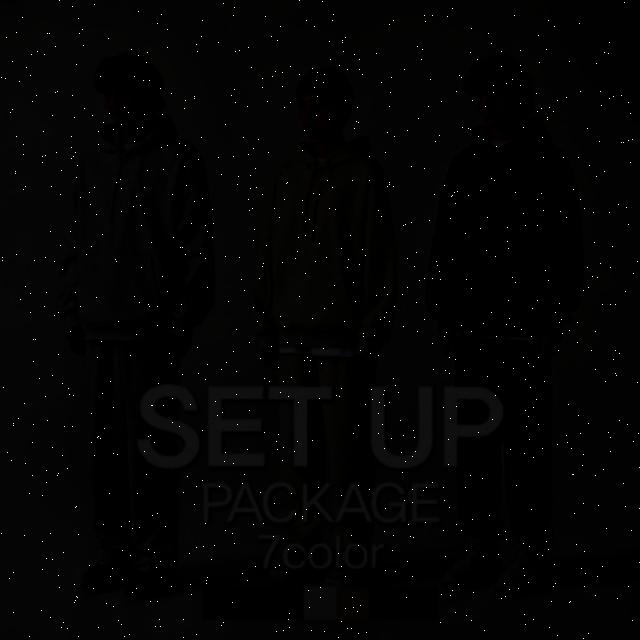dress: (48, 107, 223, 357), (415, 118, 598, 346), (255, 140, 398, 365)
